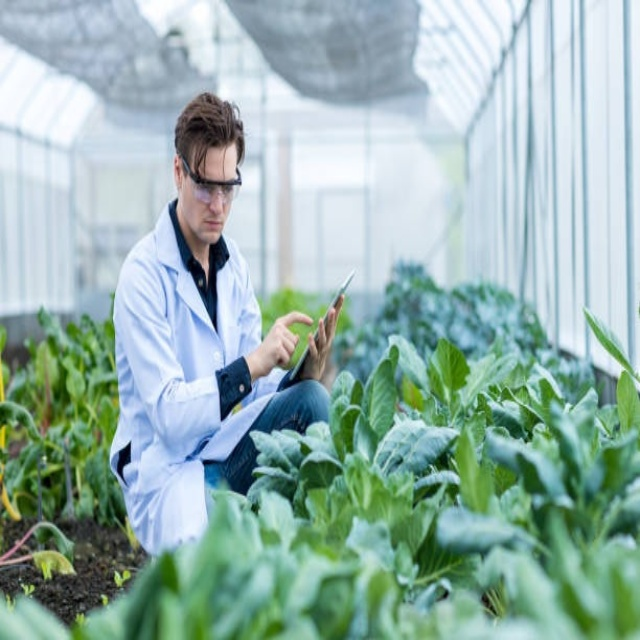Gafas: (179, 153, 243, 206)
Sin_guantes: (256, 304, 313, 376), (298, 295, 345, 382)
Sin_mascara: (199, 210, 228, 242)
